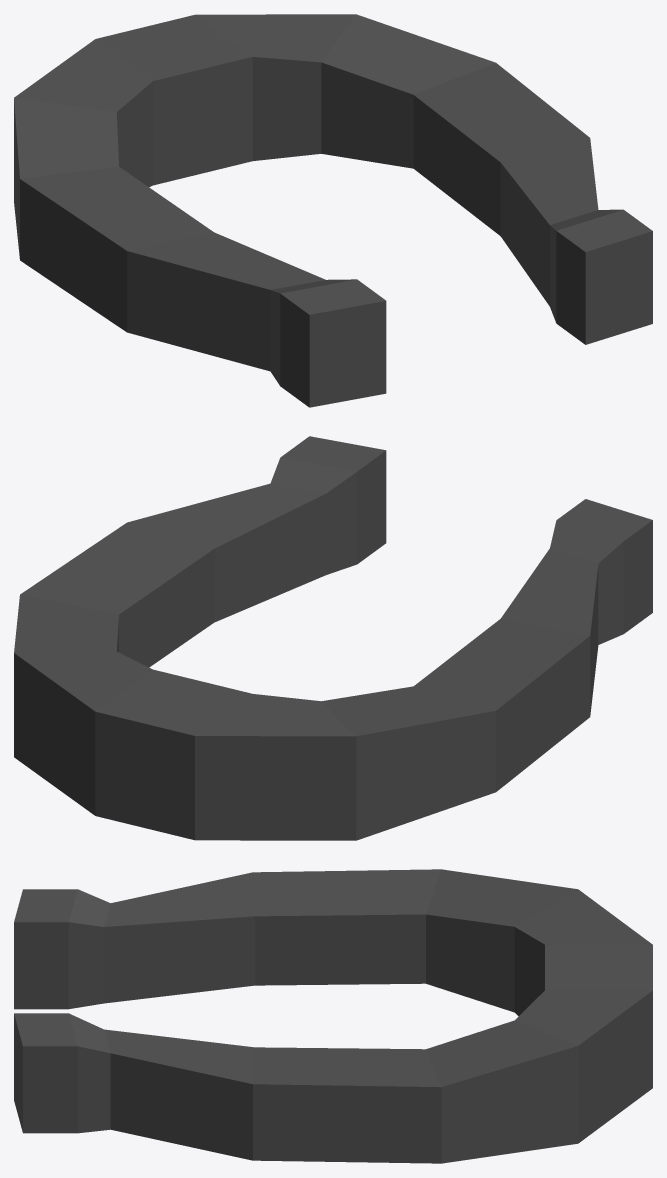
File: horseshoe01.gltf
The picture shows the model from 3 angles, top to bottom: view 1: azimuth 30°, elevation 25°; view 2: azimuth 150°, elevation 25°; view 3: azimuth 270°, elevation 25°; orthographic projection. The views are drawn at different scales.
Parts seen in each view (by area): view 1: Cube; view 2: Cube; view 3: Cube.
Part boxes in pixels (box(x1,y1,x2,y2)): Cube: box(14, 14, 652, 407); Cube: box(14, 436, 652, 840); Cube: box(14, 869, 652, 1163).
Bounding box in the file's own units: 0.1518 × 0.0318 × 0.1882.
1 material, 1 textured.
